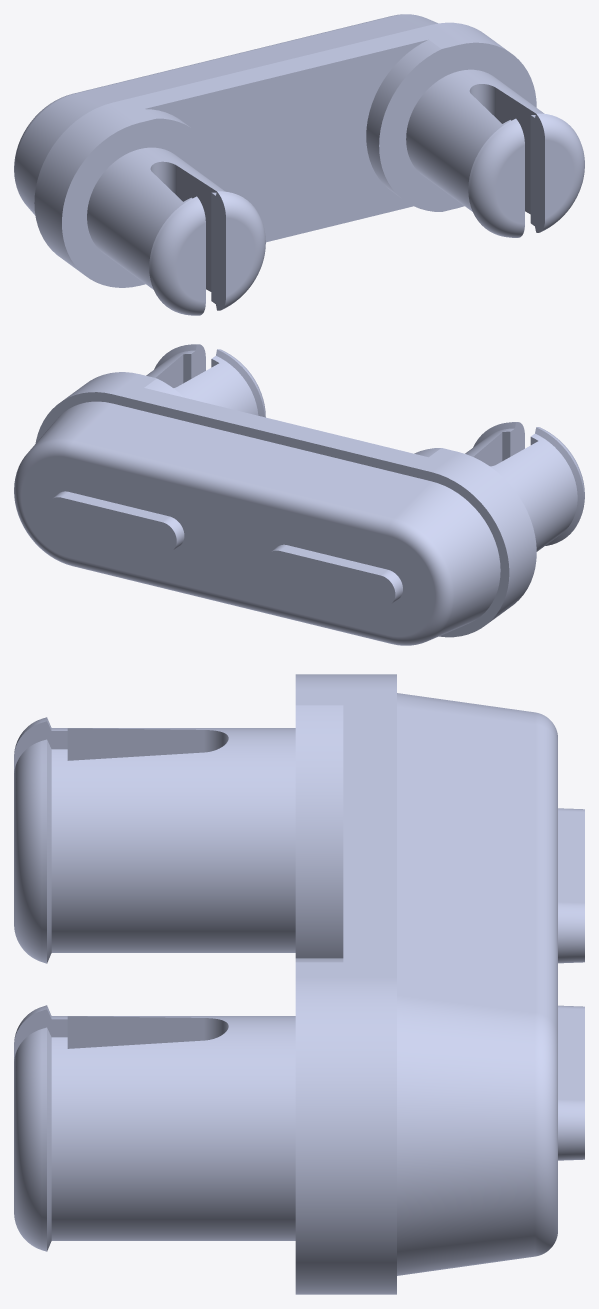
The picture shows the model from 3 angles, top to bottom: view 1: azimuth 30°, elevation 25°; view 2: azimuth 150°, elevation 25°; view 3: azimuth 270°, elevation 25°; orthographic projection. The views are drawn at different scales.
Visible parts, largest first — view 1: NAUO1, NAUO2; view 2: NAUO2, NAUO1; view 3: NAUO1, NAUO2.
Boxes of the visible parts, left/top/right/bottom form: NAUO1: left=34, top=22, right=584, bottom=315; NAUO2: left=14, top=14, right=437, bottom=215; NAUO2: left=14, top=401, right=500, bottom=645; NAUO1: left=35, top=344, right=584, bottom=637; NAUO1: left=14, top=674, right=396, bottom=1294; NAUO2: left=397, top=693, right=584, bottom=1275.
Bounding box in the file's own units: 0.0189 × 0.0062 × 0.0106.
